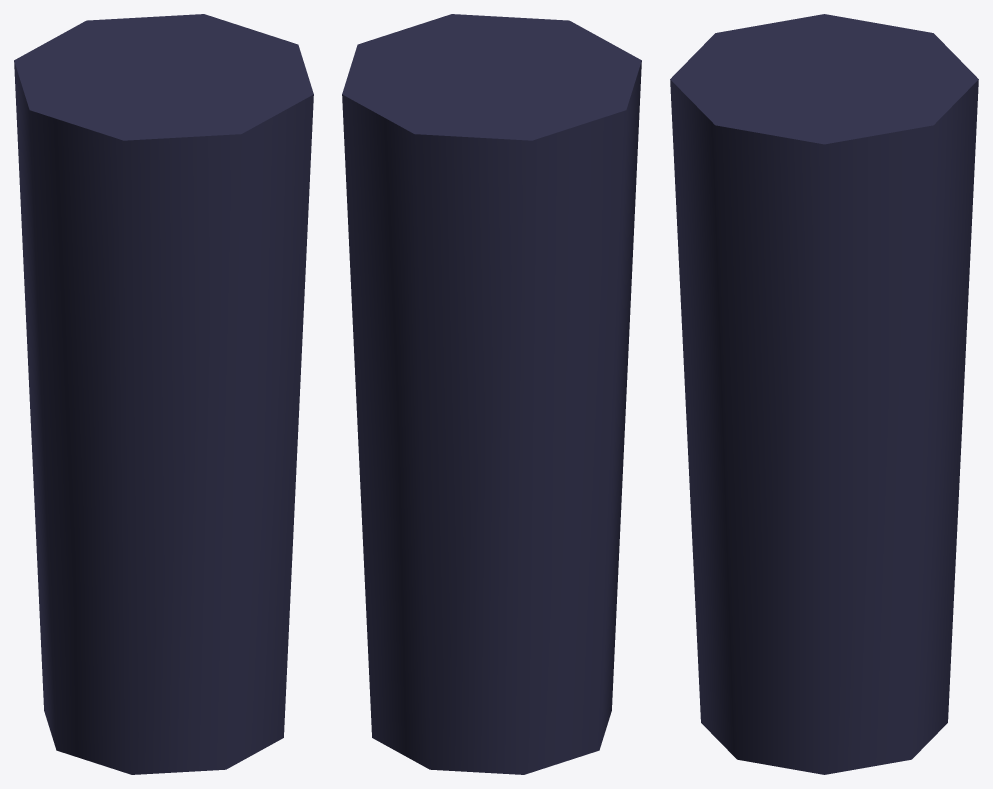
The model's file is PArrodillado_Muslo.obj.
The picture shows the model from 3 angles, left to right: view 1: azimuth 30°, elevation 25°; view 2: azimuth 150°, elevation 25°; view 3: azimuth 270°, elevation 25°; orthographic projection.
Visible parts, largest first — view 1: Muslo; view 2: Muslo; view 3: Muslo.
Part boxes in pixels (left/top/right/bottom): Muslo: left=14, top=14, right=313, bottom=774; Muslo: left=342, top=14, right=641, bottom=774; Muslo: left=670, top=14, right=978, bottom=774.
Size of the model in its own units: 0.1 by 0.23 by 0.1.
Materials: 1 (1 with a texture image).
